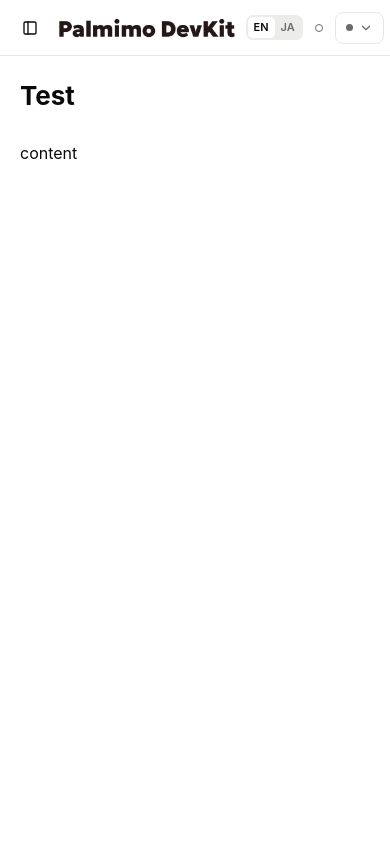
it: AppShell mobile drawer › closes on Escape and restores focus to the toggle button
The image size is (390, 844).
Click the button named "Toggle sidebar" at x=30, y=28, box x1=12 y1=10 x2=48 y2=46
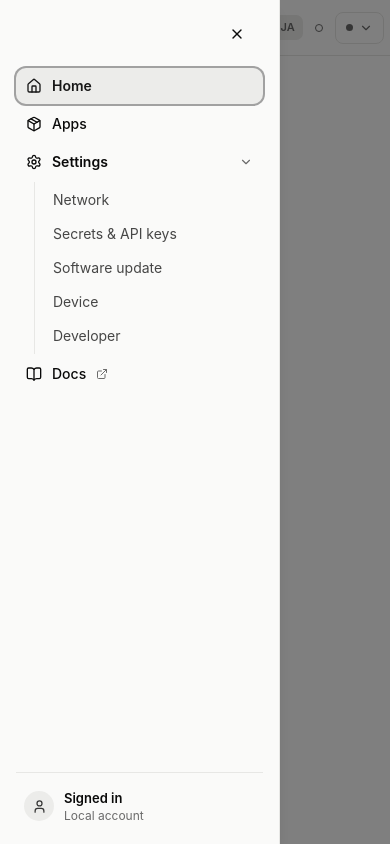
Check: the dialog named "Primary navigation" is shown
Press Escape
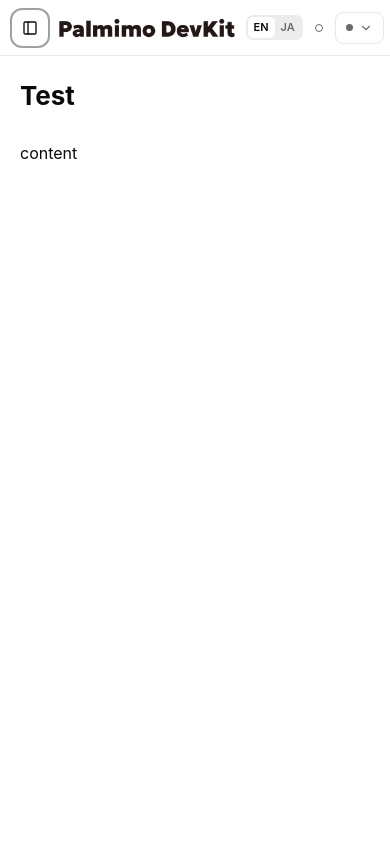
Check: the dialog is gone
